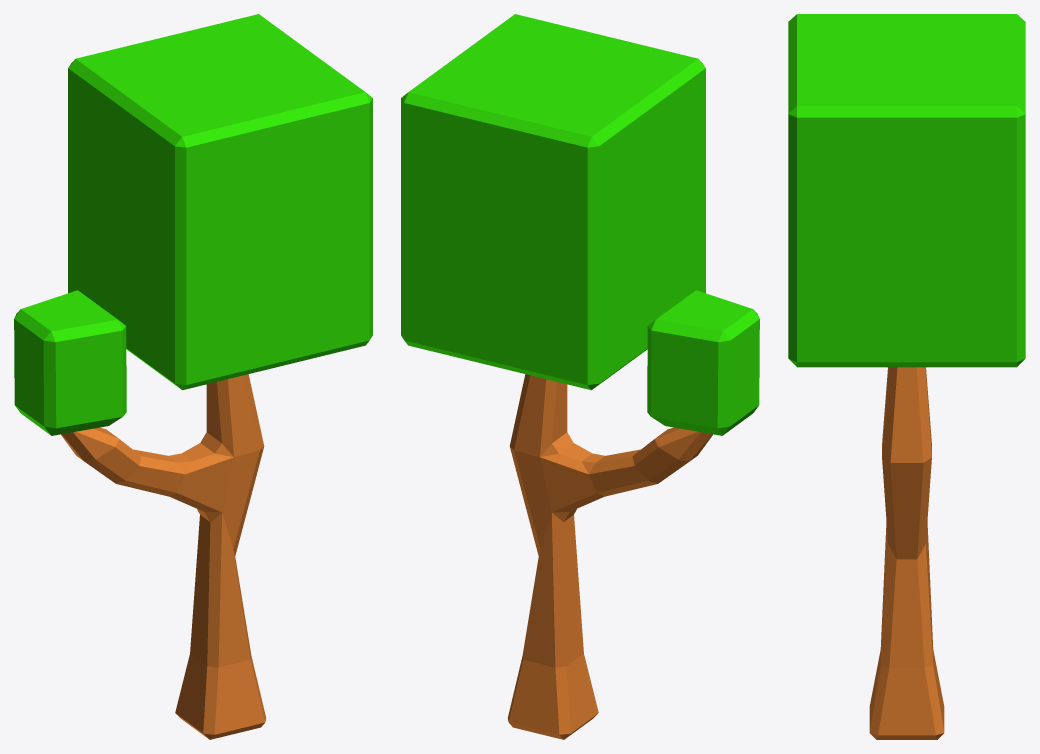
Rendered from Tree.fbx.
3 renders of one model, left to right at view 1: azimuth 30°, elevation 25°; view 2: azimuth 150°, elevation 25°; view 3: azimuth 270°, elevation 25°, orthographic. The views are drawn at different scales.
Parts seen in each view (by area): view 1: Leaf, Banch; view 2: Leaf, Banch; view 3: Leaf, Banch.
Part boxes in pixels (x1,y1,x2,y2): Leaf: [14, 14, 372, 435]; Banch: [61, 374, 266, 739]; Leaf: [401, 14, 759, 435]; Banch: [507, 374, 712, 739]; Leaf: [788, 14, 1025, 367]; Banch: [869, 367, 944, 739].
Size of the model in its own units: 890 by 1895 by 611.
